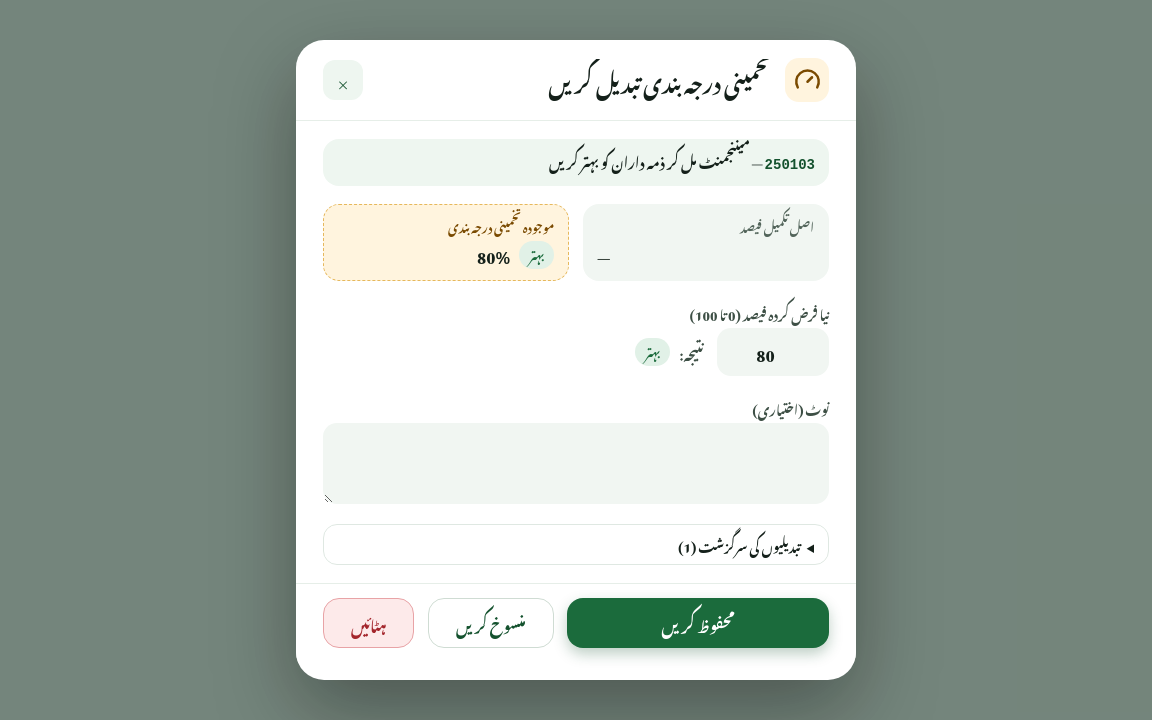
Scenario: SyntheticRatingDialog (admin: change a synthetic rating) › if the save fails the dialog stays open with what was typed
The width and height of the screenshot is (1152, 720).
Replace the text in the number field labelled "نیا فرض کردہ فیصد (0 تا 100)" with "33" at (773, 352), box [717,328,829,376]
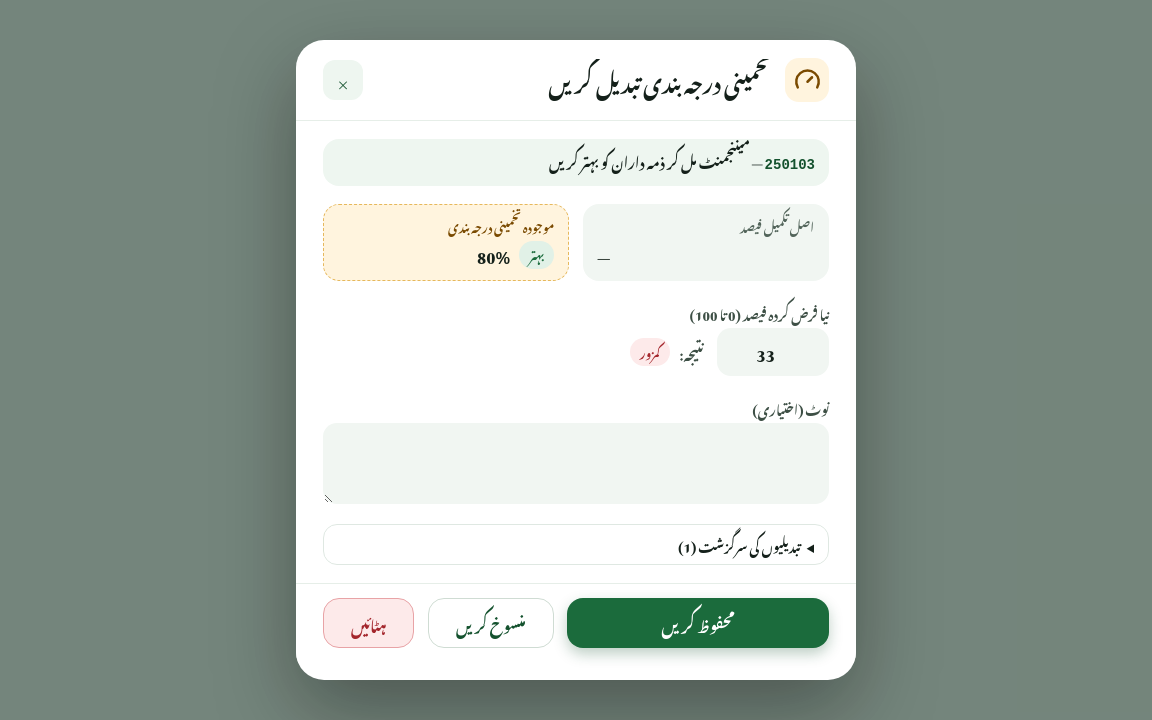
Click the button "محفوظ کریں" at (698, 623), box [567,598,829,648]
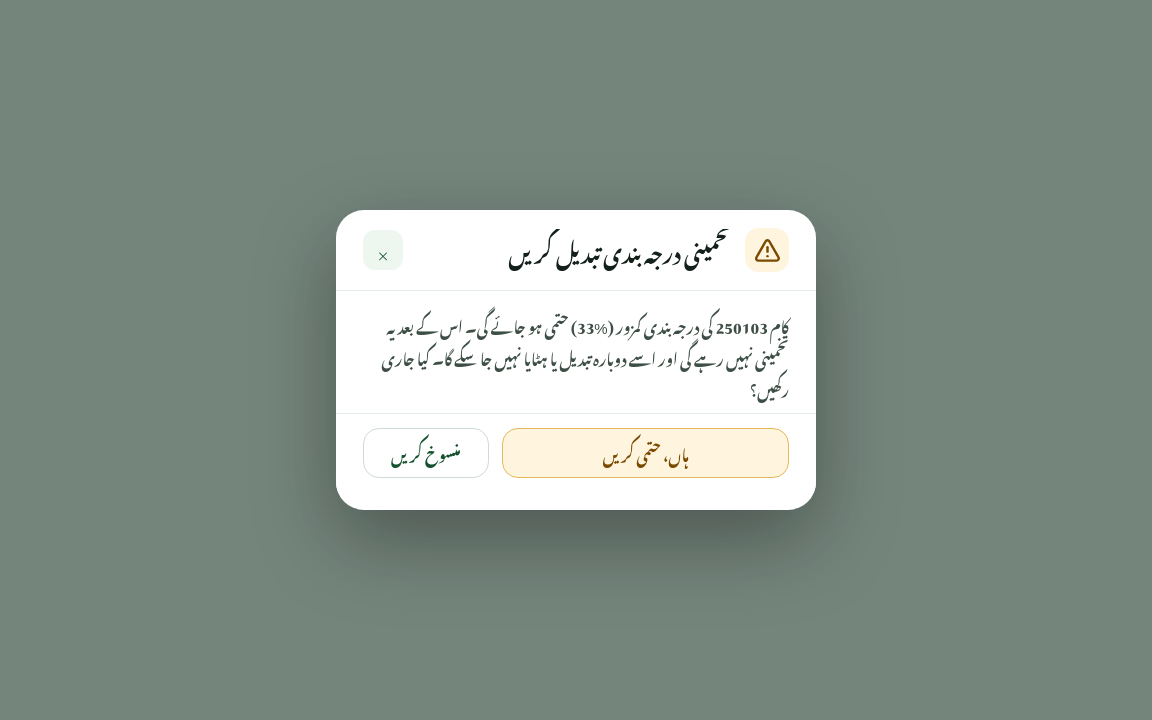
Click the button "ہاں، حتمی کریں" at (646, 453), box [502,428,789,478]
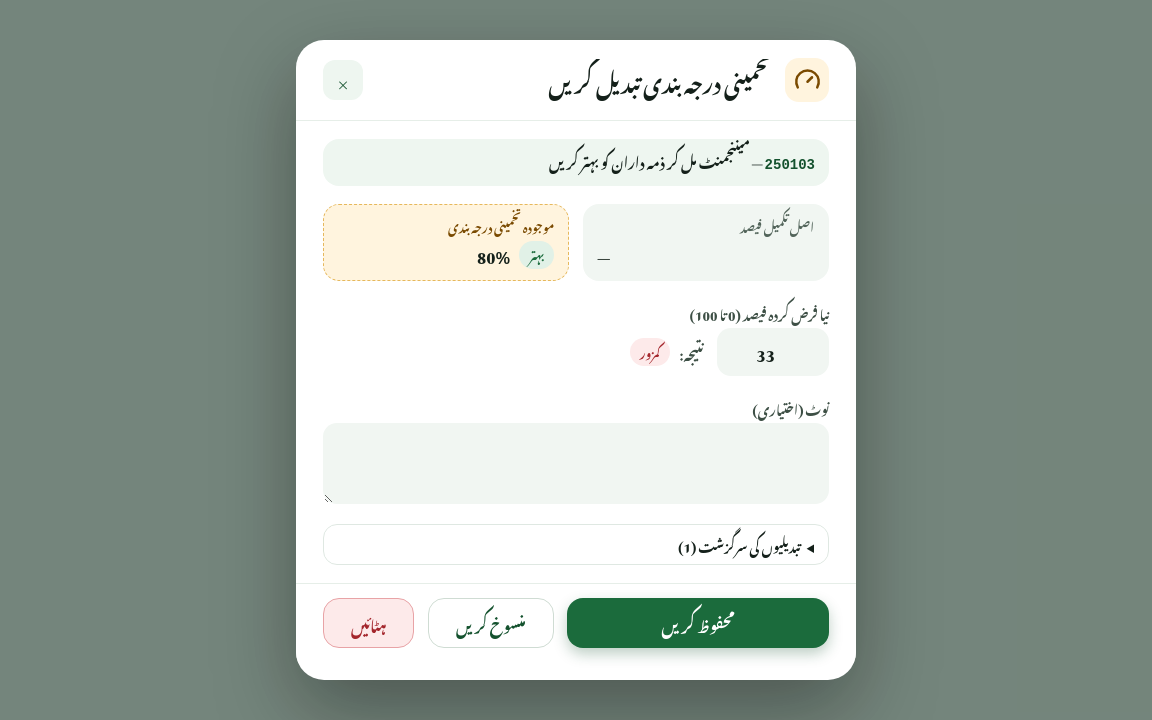
Result: the number field labelled "نیا فرض کردہ فیصد (0 تا 100)" holds "33" at [717,328,829,376]
